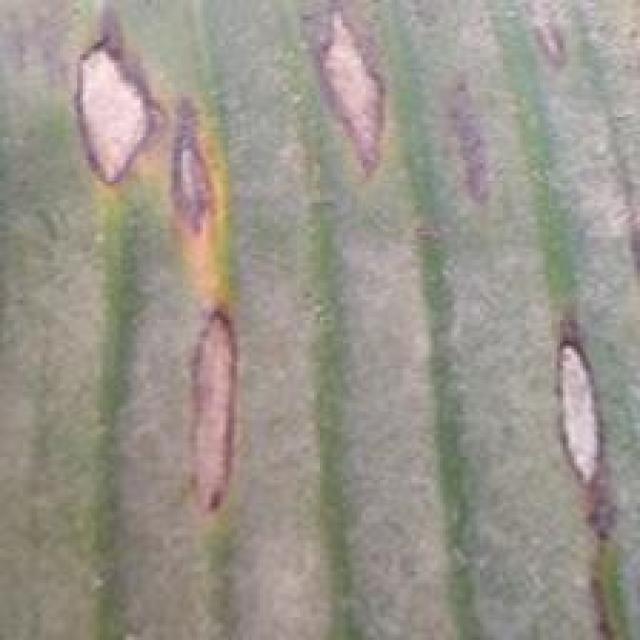Early_leaf_spot: (43, 18, 232, 268), (534, 310, 640, 636), (149, 305, 263, 514), (294, 0, 417, 180), (429, 55, 500, 205), (510, 0, 599, 88)
